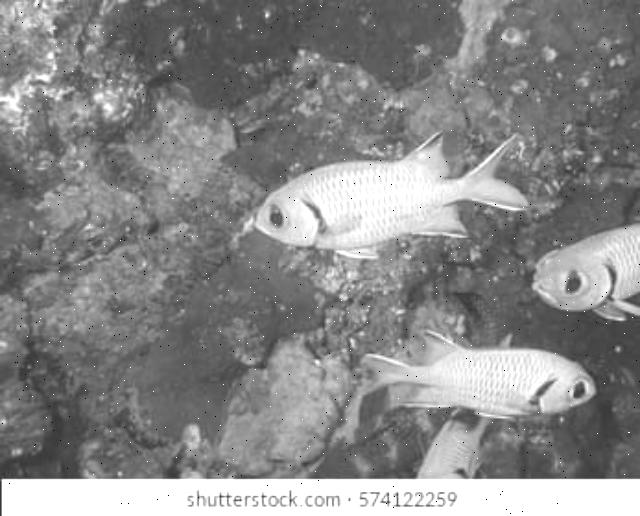Mulut: (522, 270, 568, 308)
Sirip Anal: (418, 204, 477, 246)
Sirip Dada: (323, 206, 367, 236)
Sirip Ekor: (469, 131, 545, 221), (348, 335, 408, 407)
Sirip Perut: (334, 238, 390, 274)
Sirip Punggung: (412, 320, 463, 370), (402, 125, 452, 171)
